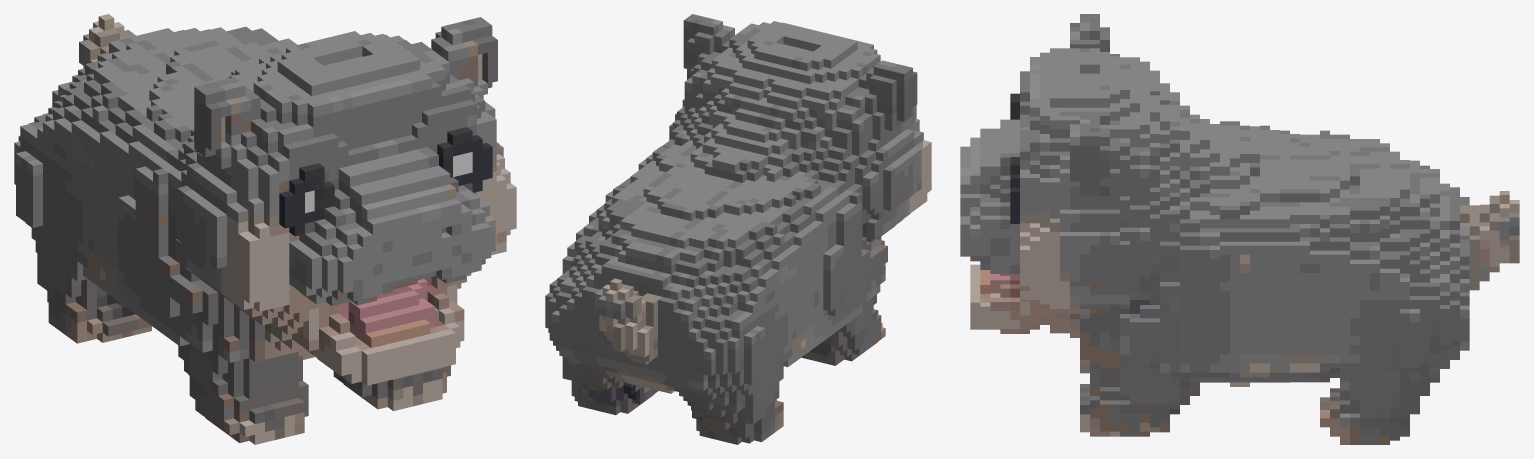
File: moodeng_voxel.glb
The picture shows the model from 3 angles, left to right: view 1: azimuth 30°, elevation 25°; view 2: azimuth 150°, elevation 25°; view 3: azimuth 270°, elevation 25°; orthographic projection. The views are drawn at different scales.
Visible parts, largest first — view 1: world; view 2: world; view 3: world.
Boxes of the visible parts, box(x1,y1,x2,y2) form: world: box(14, 14, 516, 444); world: box(545, 14, 931, 444); world: box(960, 14, 1519, 444).
Bounding box in the file's own units: 29 × 35 × 56.
